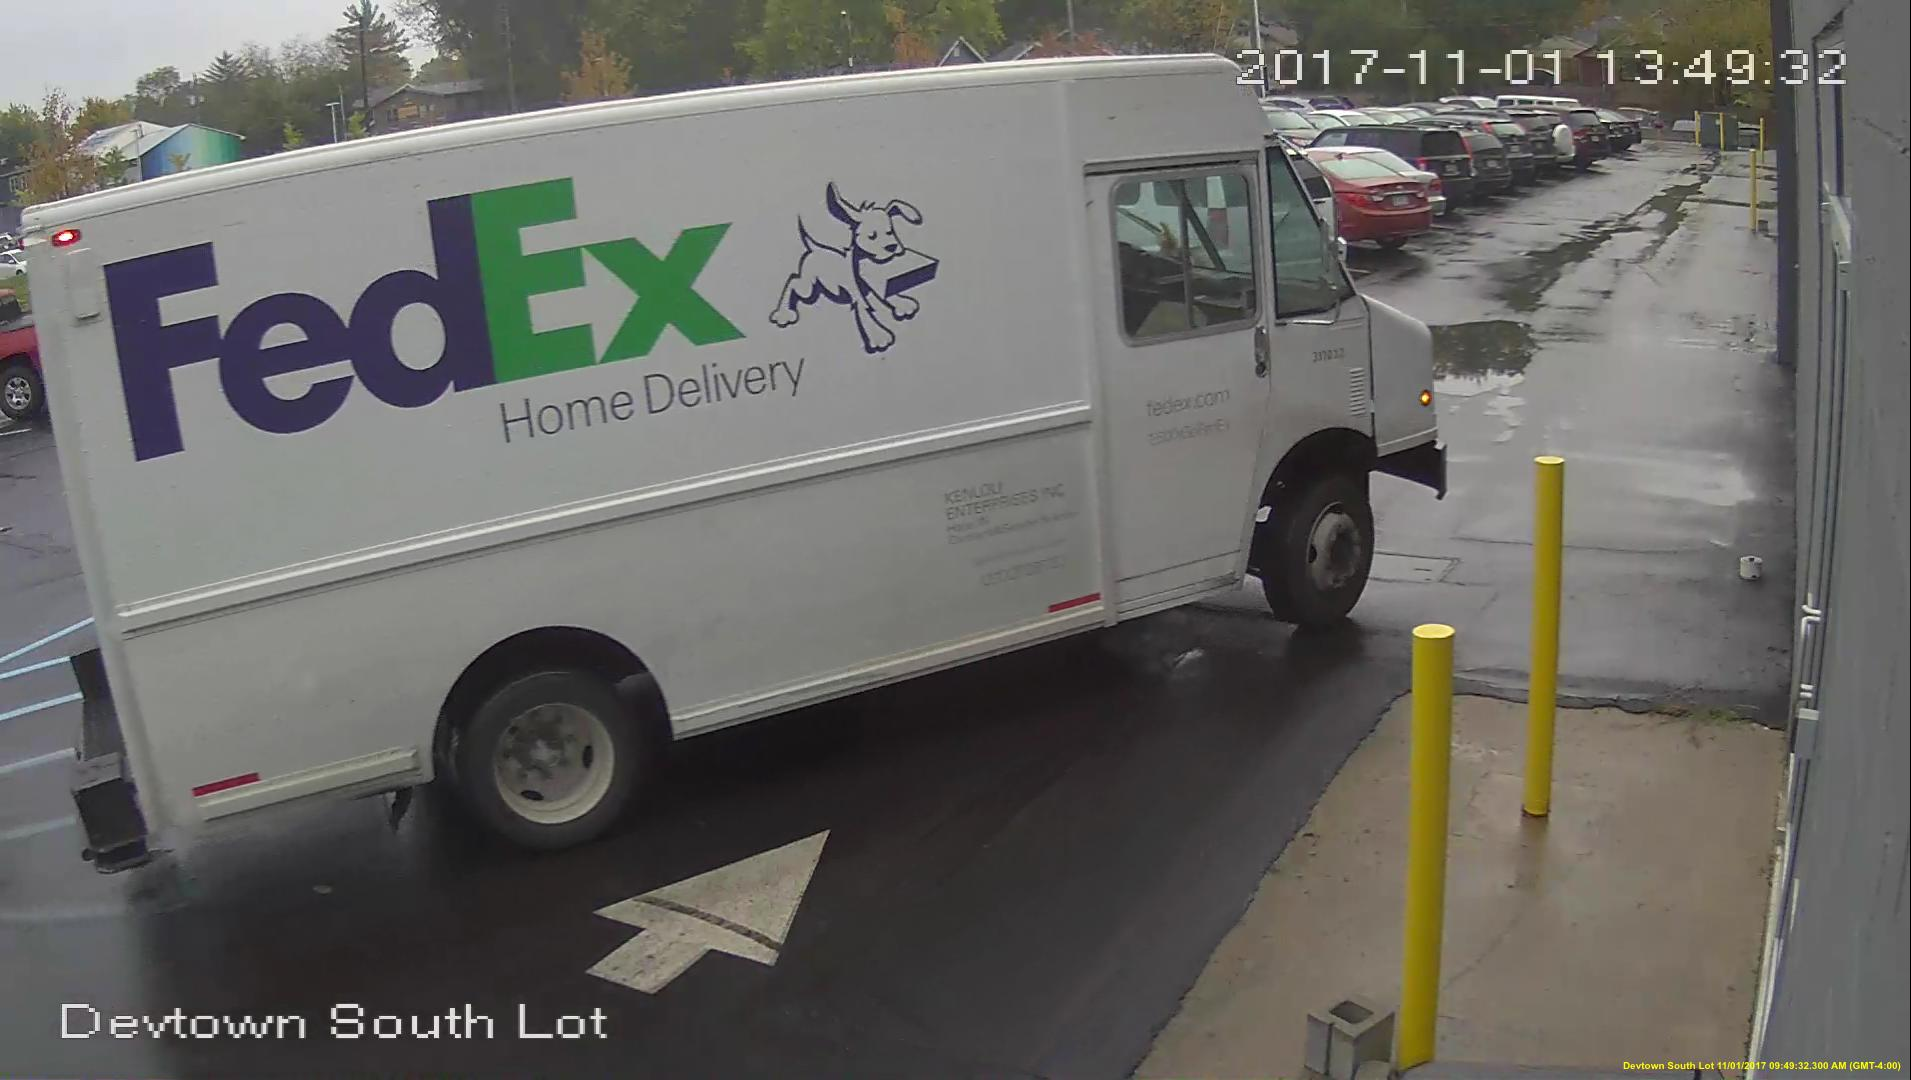fedex_truck: (42, 60, 1438, 884)
